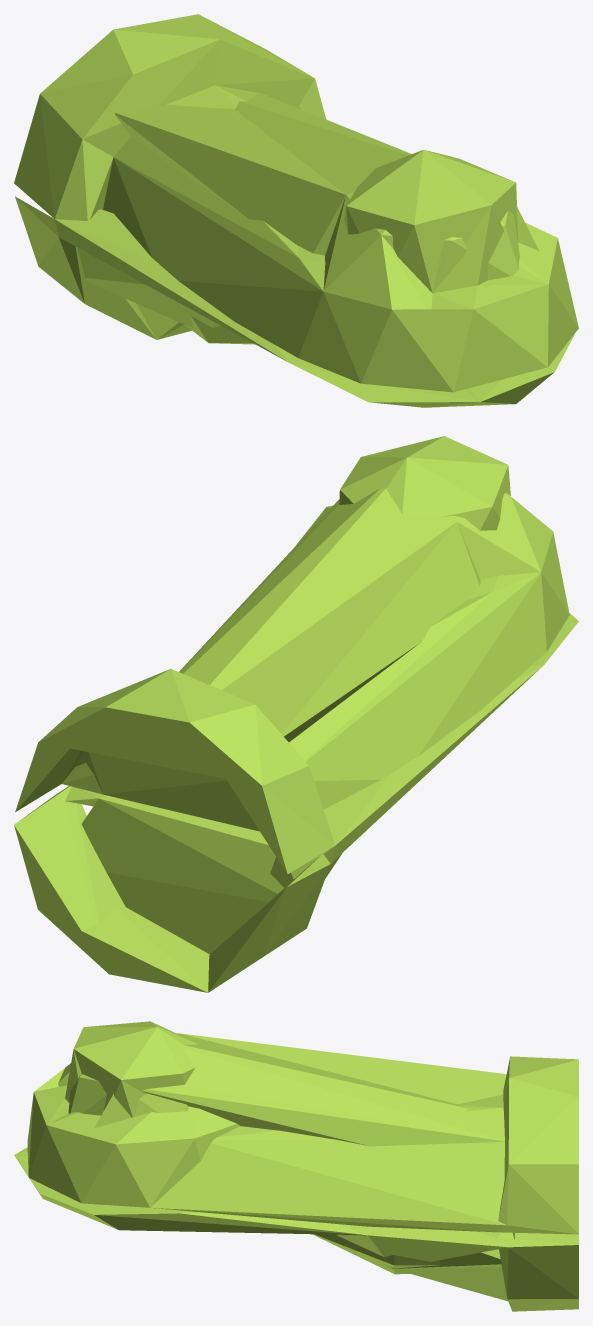
3 renders of one model, top to bottom at view 1: azimuth 30°, elevation 25°; view 2: azimuth 150°, elevation 25°; view 3: azimuth 270°, elevation 25°, orthographic. The views are drawn at different scales.
Parts seen in each view (by area): view 1: right_link3; view 2: right_link3; view 3: right_link3.
Part boxes in pixels (bbox=[...]): right_link3: bbox=[14, 14, 578, 407]; right_link3: bbox=[14, 436, 578, 992]; right_link3: bbox=[14, 1021, 578, 1311].
Size of the model in its own units: 0.115 by 0.1329 by 0.2507.
